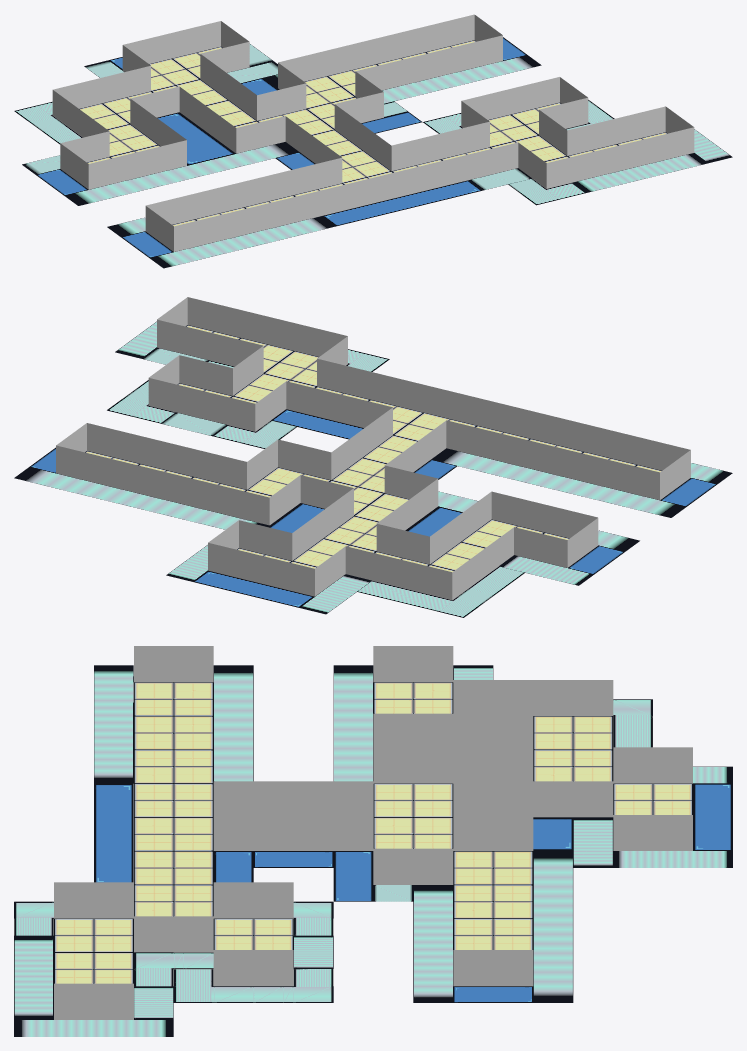
File: map3.fbx
3 views of the same model, one above another, from view 1: azimuth 30°, elevation 25°; view 2: azimuth 150°, elevation 25°; view 3: azimuth 270°, elevation 25° (orthographic). The views are drawn at different scales.
Parts seen in each view (by area): view 1: Plane.001, Plane, Plane.012, Plane.009, Plane.014, Plane.008, Plane.002, Plane.013, Plane.025, Plane.019, Plane.021, Plane.010 (+7 smaller); view 2: Plane.001, Plane, Plane.011, Plane.018, Plane.025, Plane.026, Plane.032, Plane.027, Plane.016, Plane.015, Plane.017, Plane.012 (+9 smaller); view 3: Plane.001, Plane, Plane.018, Plane.014, Plane.011, Plane.012, Plane.009, Plane.008, Plane.002, Plane.007, Plane.026, Plane.005 (+16 smaller).
Part boxes in pixels (x1,y1,x2,y2): Plane.001: (52,14,694,251); Plane: (79,40,667,226); Plane.012: (64,142,299,205); Plane.009: (149,216,335,268); Plane.014: (382,55,541,103); Plane.008: (322,180,482,226); Plane.002: (572,153,707,193); Plane.013: (157,112,235,165); Plane.025: (14,101,82,144); Plane.019: (508,178,584,205); Plane.021: (469,168,531,190); Plane.010: (121,231,173,257); Plane.001: (56,297,690,599); Plane: (85,325,661,572); Plane.011: (431,448,685,517); Plane.018: (14,467,269,529); Plane.025: (357,566,524,617); Plane.026: (193,570,314,607); Plane.032: (499,555,593,585); Plane.027: (300,574,371,614); Plane.016: (271,409,363,439); Plane.015: (213,420,296,448); Plane.017: (107,388,175,423); Plane.012: (438,491,639,551); Plane.001: (54,646,692,1019); Plane: (54,682,692,983); Plane.018: (533,851,573,1002); Plane.014: (413,885,453,1002); Plane.011: (213,665,253,781); Plane.012: (333,665,373,781); Plane.009: (94,665,133,783); Plane.008: (94,783,133,882); Plane.002: (14,935,53,1019); Plane.007: (14,1020,173,1036); Plane.026: (693,783,732,850); Plane.005: (134,952,213,986).
Bounding box in the file's own units: 4400 × 200 × 3600.
